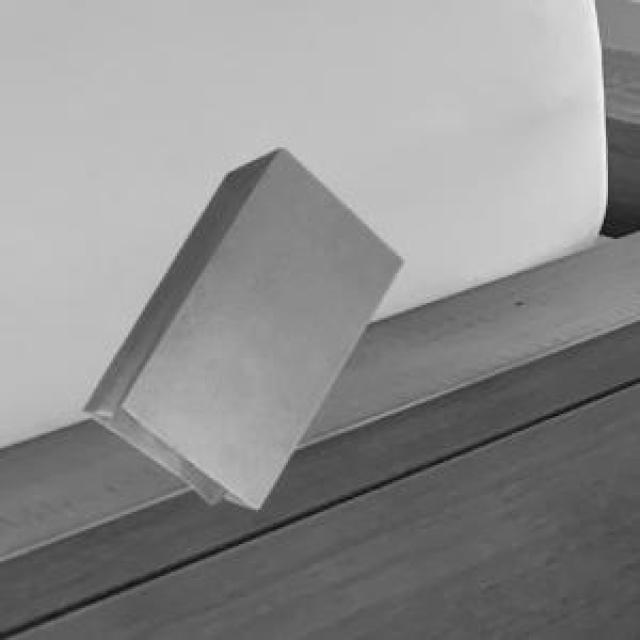paper: (79, 145, 399, 506)
